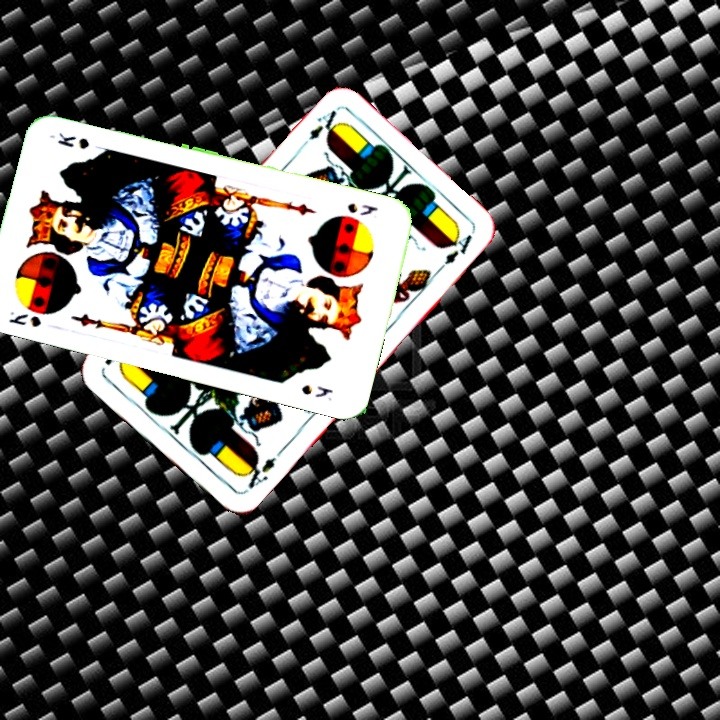EA: (294, 105, 343, 153), (238, 452, 279, 492)
SK: (4, 307, 44, 330), (343, 199, 380, 218)
